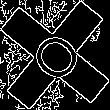O_SE: (22, 22, 88, 88)
